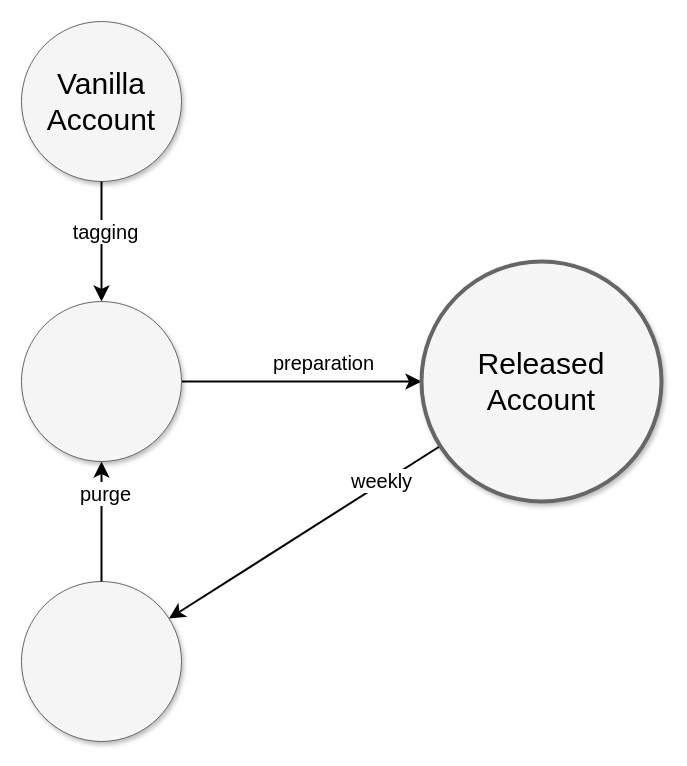
The diagram is 687 pixels wide and 766 high, and some of its shapes have lost their labels. The shapes that lost their labels are listed below. From the top down, each one's centre as x and y in pixels, then its label:
At [102,382]: "Assigned Account".
At [102,662]: "Expired Account".
